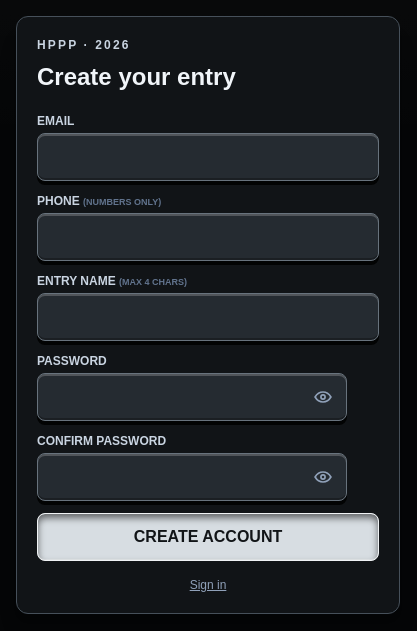
Test: SignupPage › has blank identity fields and reveals matching passwords
The image size is (417, 631).
In the password field labelled "Password": {"x": 192, "y": 397} [37,373,347,421], type "secret"
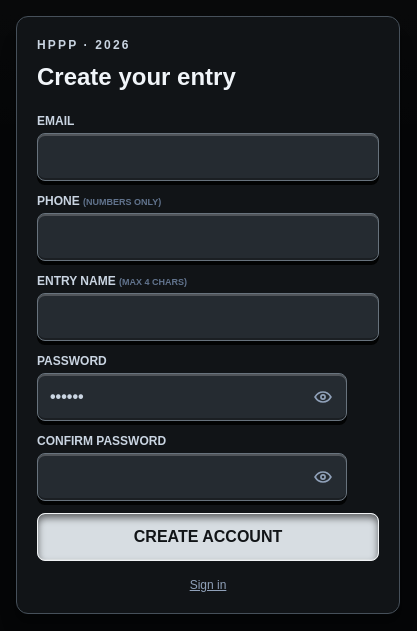
In the password field labelled "Confirm password": {"x": 192, "y": 477} [37,453,347,501], type "secret"
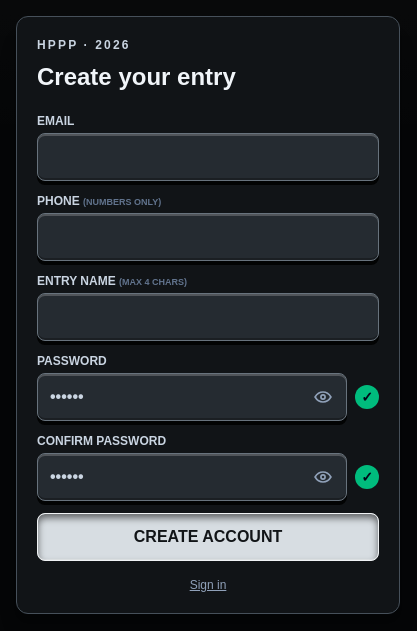
Expected: the number of elements named "Passwords match" is 2, [355,385,379,409]; [355,465,379,489]
Click the button named "Show password": {"x": 323, "y": 397} [299,373,347,421]
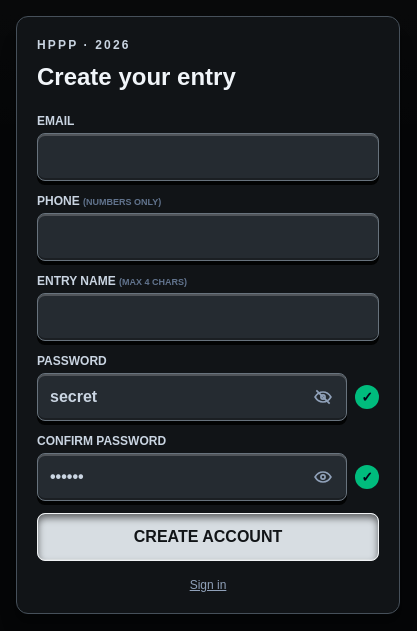
Expected: the field labelled "Password" shows its text, [37,373,347,421]
